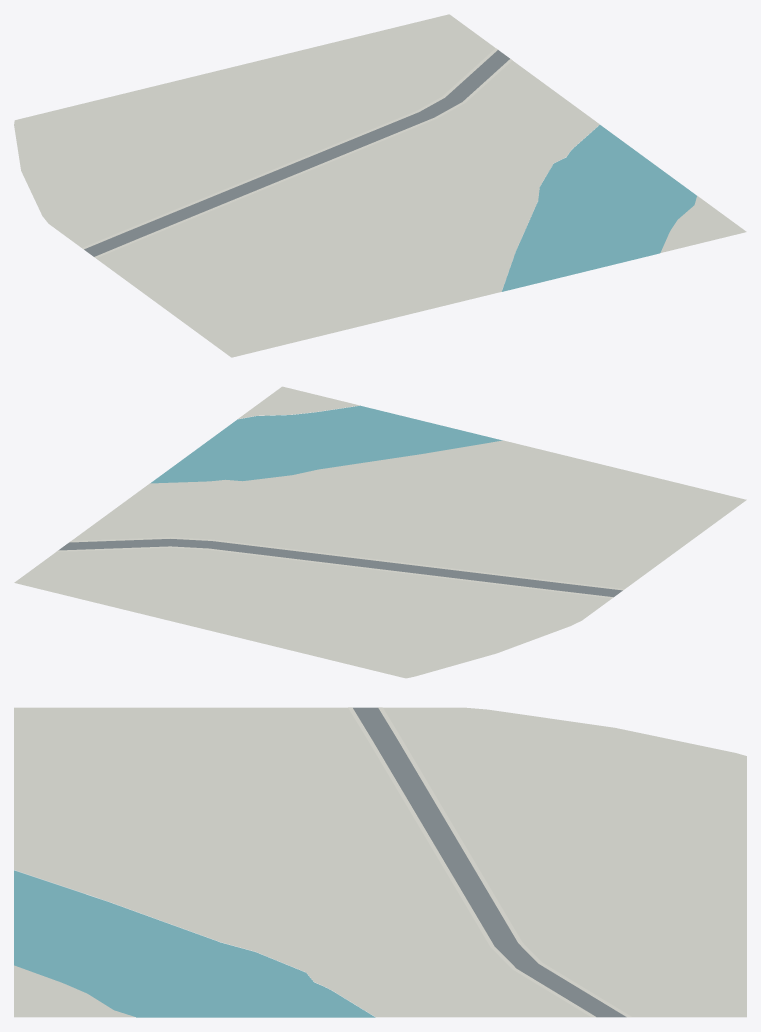
3 views of the same model, one above another, from view 1: azimuth 30°, elevation 25°; view 2: azimuth 150°, elevation 25°; view 3: azimuth 270°, elevation 25° (orthographic). The views are drawn at different scales.
Visible parts, largest first — view 1: city; view 2: city; view 3: city.
Part boxes in pixels (box(x1,y1,x2,y2)): city: box(14, 14, 746, 357); city: box(14, 386, 746, 678); city: box(14, 707, 746, 1017).
Bounding box in the file's own units: 500 × 0.4 × 500.
